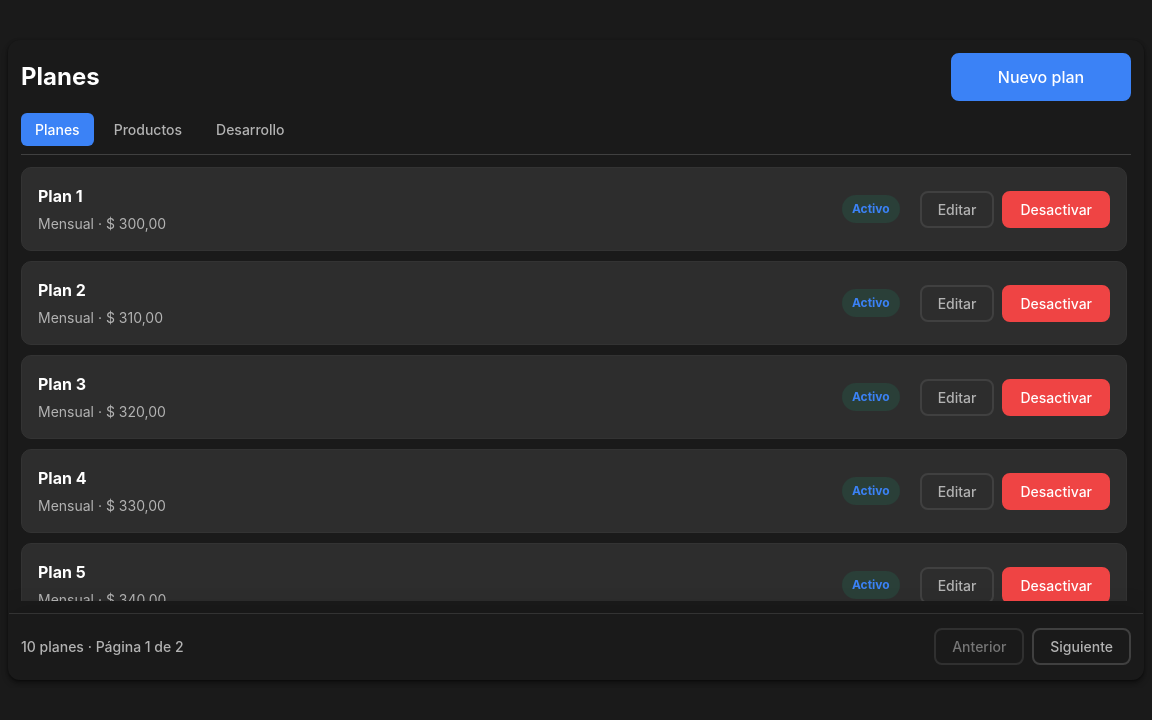
Scenario: pagina los planes sin desplazar la página completa
The image size is (1152, 720).
Check: the text "Plan 1" is shown, box [38,186,83,206]
Check: the text "10 planes · Página 1 de 2" is shown, box [21,636,184,657]
Click the button "Siguiente" at x=1082, y=646, box [1032,628,1131,665]
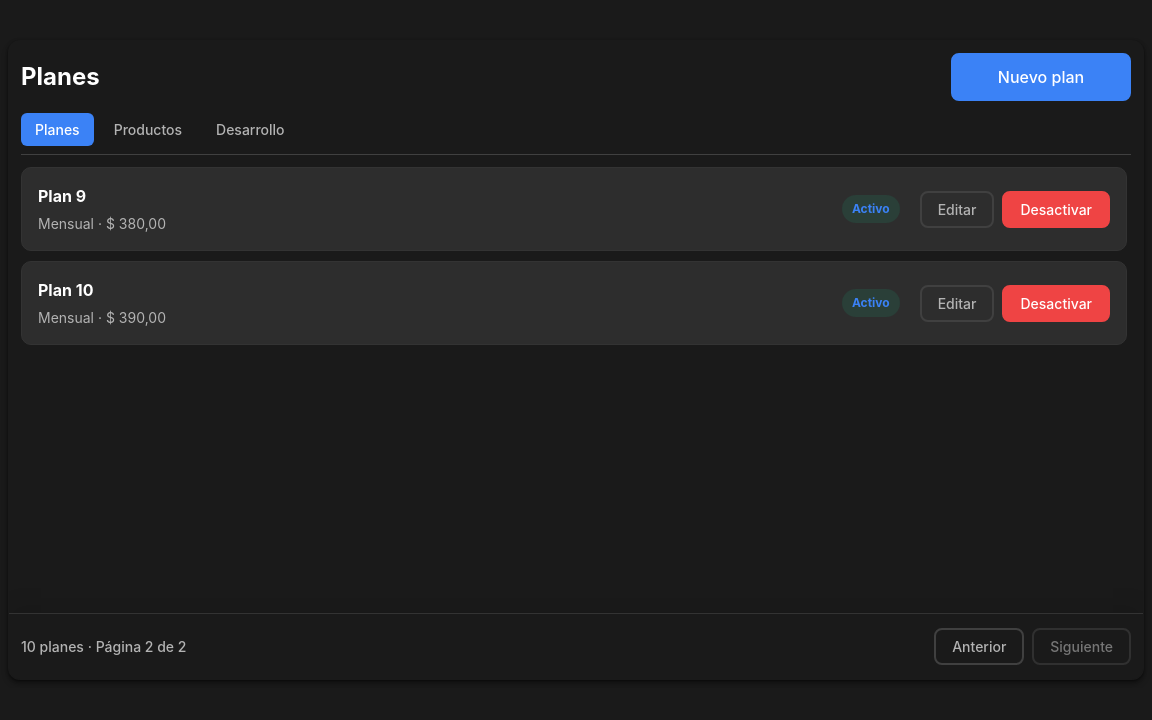
Check: the text "Plan 9" is shown, box [38,186,86,206]
Check: the text "10 planes · Página 2 de 2" is shown, box [21,636,186,657]
